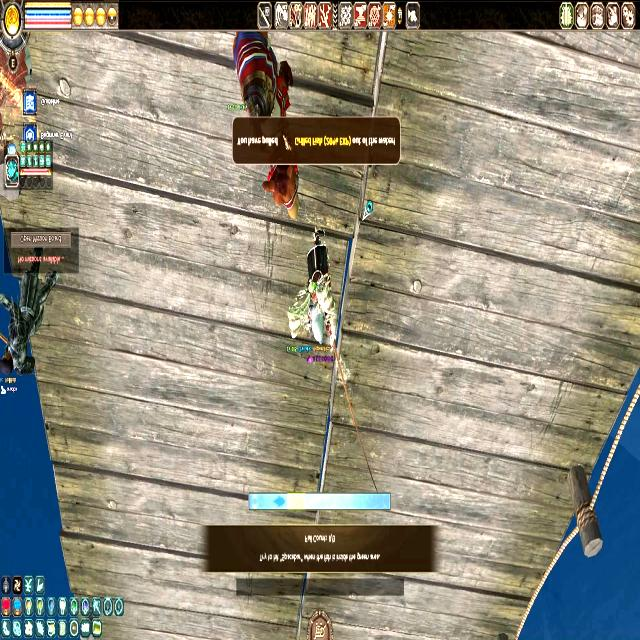fishes: (273, 494, 286, 508)
